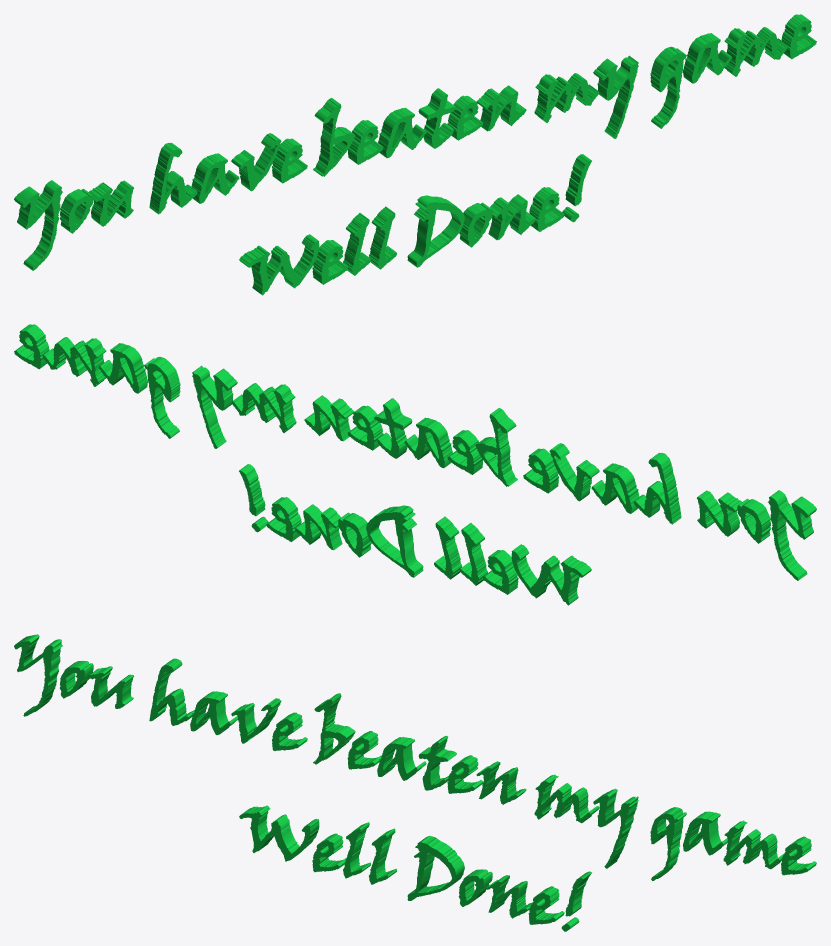
The model's file is wellDoneMessage.fbx.
3 views of the same model, one above another, from view 1: azimuth 30°, elevation 25°; view 2: azimuth 150°, elevation 25°; view 3: azimuth 330°, elevation 25° (orthographic).
Visible parts, largest first — view 1: node_id40 (×2); view 2: node_id40 (×2); view 3: node_id40 (×2).
Boxes of the visible parts, box(x1,y1,x2,y2) form: node_id40 (×2): box(14, 14, 816, 295); node_id40 (×2): box(14, 324, 816, 605); node_id40 (×2): box(14, 634, 816, 931).
Size of the model in its own units: 0.962 by 0.211 by 0.0188.
